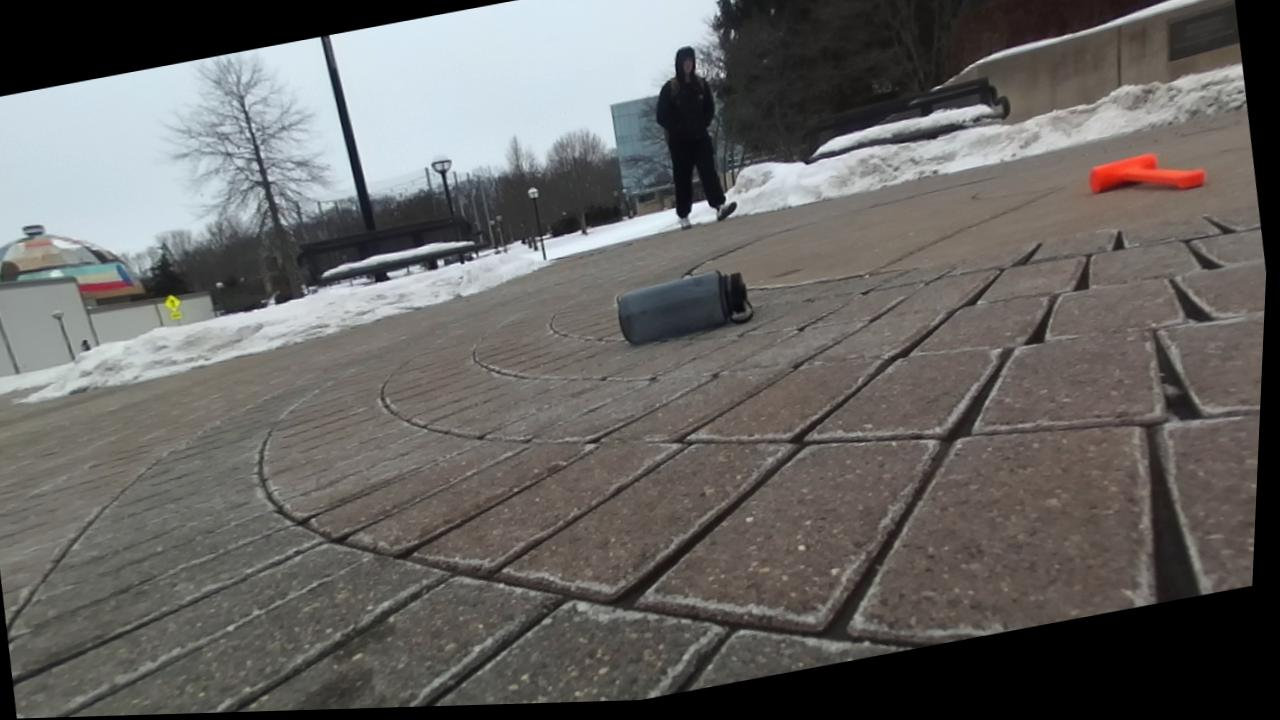bottle: (617, 270, 754, 343)
mallet: (1090, 153, 1204, 192)
